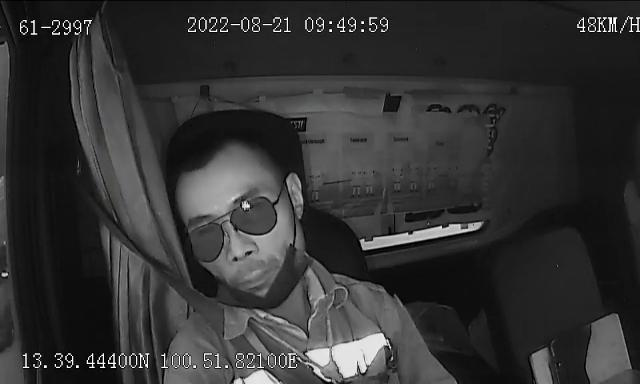SafeDriving: (416, 96, 460, 120), (236, 193, 268, 220)
Seatbelt: (79, 172, 271, 384)
